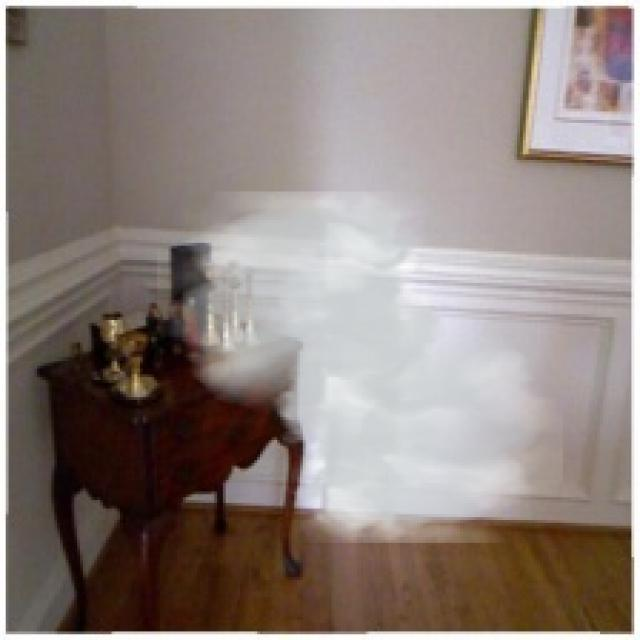Smoke: (157, 191, 563, 543)
